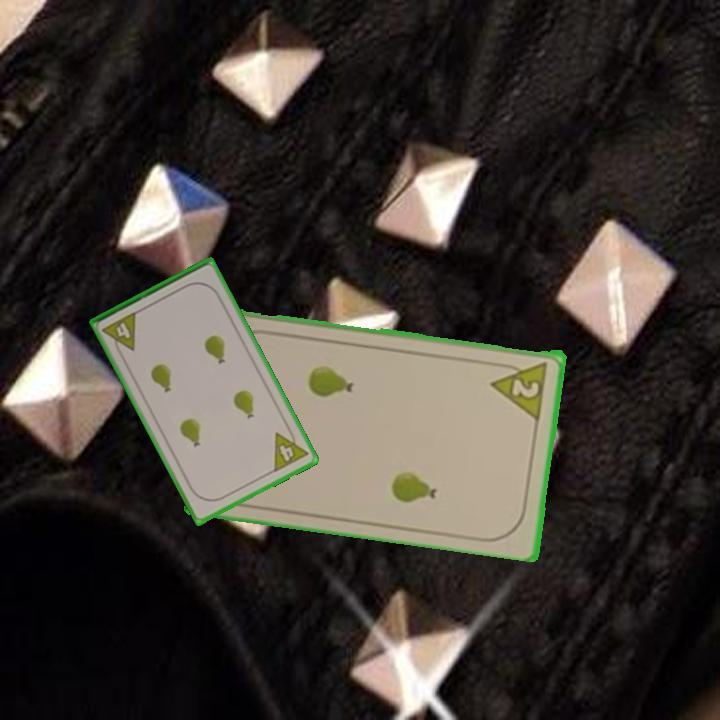2p: (488, 357, 551, 420)
4p: (270, 423, 311, 475), (99, 308, 140, 359)
